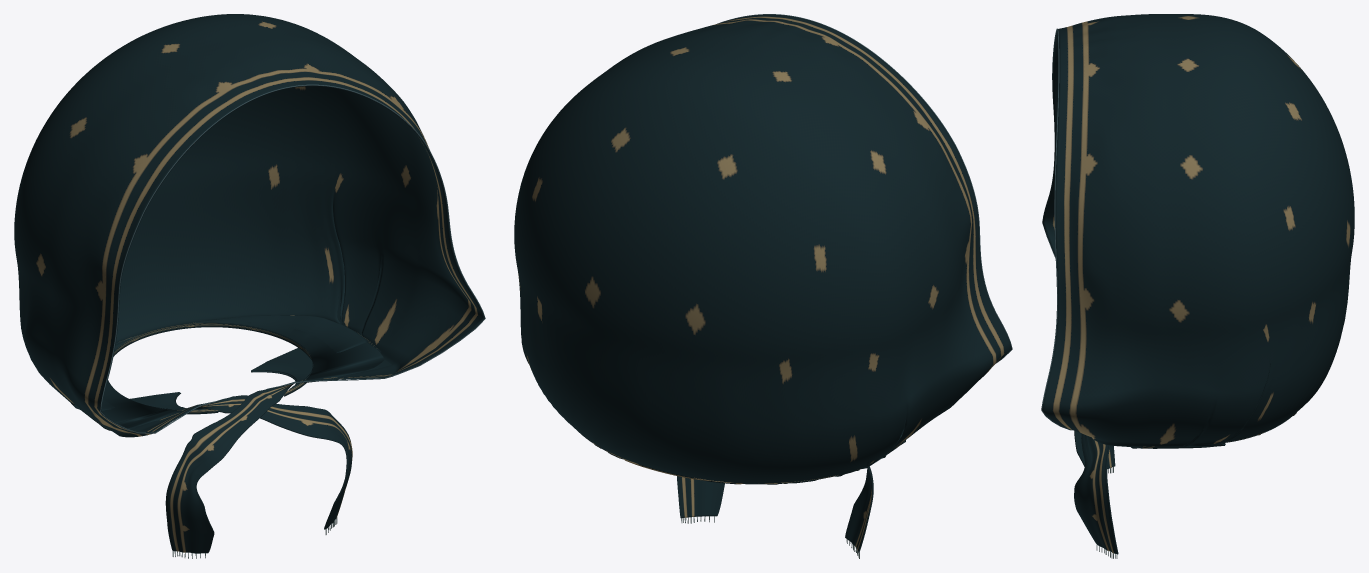
The model's file is Feminine-straight-tshirt-pashmina250-headgear.glb.
3 views of the same model, side by side, from view 1: azimuth 30°, elevation 25°; view 2: azimuth 150°, elevation 25°; view 3: azimuth 270°, elevation 25° (orthographic). The views are drawn at different scales.
Visible parts, largest first — view 1: 226 headgear / Headwear / continuous woven pashmina239, 226 headgear / Headwear / face edge239; view 2: 226 headgear / Headwear / continuous woven pashmina239, 226 headgear / Headwear / face edge239; view 3: 226 headgear / Headwear / continuous woven pashmina239, 226 headgear / Headwear / face edge239.
Part boxes in pixels (left/top/right/bottom): 226 headgear / Headwear / continuous woven pashmina239: left=14, top=14, right=484, bottom=553; 226 headgear / Headwear / face edge239: left=100, top=84, right=485, bottom=433; 226 headgear / Headwear / continuous woven pashmina239: left=514, top=14, right=1011, bottom=552; 226 headgear / Headwear / face edge239: left=717, top=14, right=1012, bottom=363; 226 headgear / Headwear / continuous woven pashmina239: left=1042, top=14, right=1354, bottom=554; 226 headgear / Headwear / face edge239: left=1041, top=28, right=1072, bottom=430.
Size of the model in its own units: 1.16 by 1.39 by 0.813.
3 materials, 1 textured.
